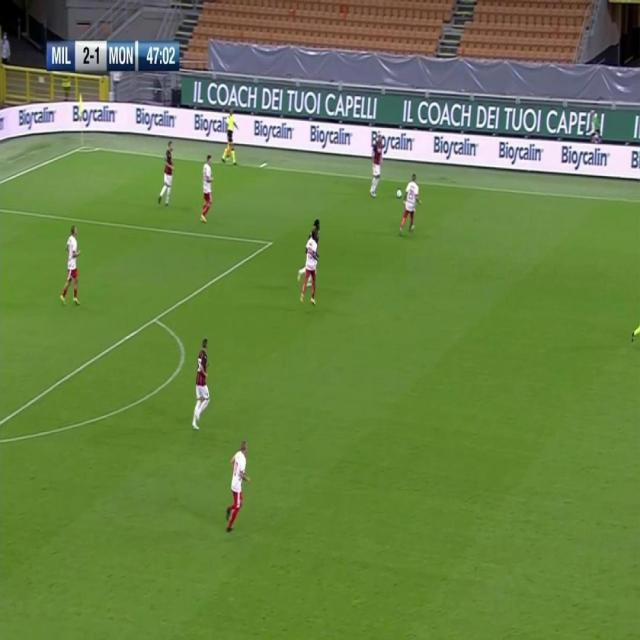ball: (395, 187, 403, 200)
player: (223, 441, 251, 534), (190, 336, 213, 432), (299, 229, 324, 316), (297, 209, 325, 284), (59, 224, 83, 308), (398, 173, 423, 235), (199, 153, 216, 226), (157, 140, 175, 208), (368, 130, 384, 198)
referee: (221, 106, 238, 167)
